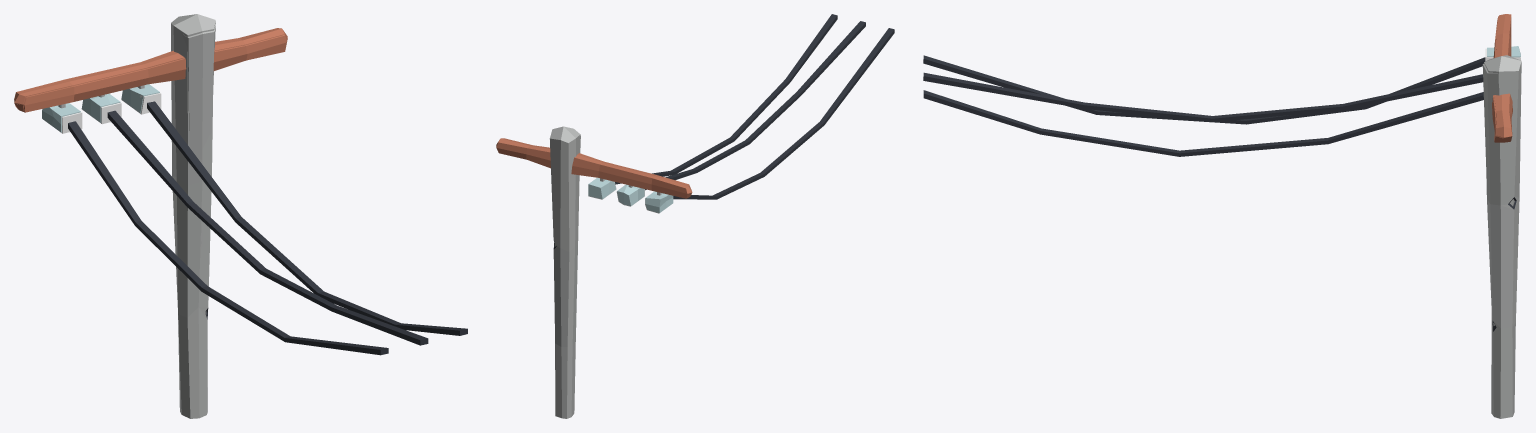
Rendered from Cenarios.fbx_Postes.fbx.
3 renders of one model, left to right at view 1: azimuth 30°, elevation 25°; view 2: azimuth 150°, elevation 25°; view 3: azimuth 270°, elevation 25°, orthographic. The views are drawn at different scales.
Visible parts, largest first — view 1: Poste Amassado, Poste Amassado Vazio; view 2: Poste Amassado; view 3: Poste Amassado, Poste Amassado Vazio.
Boxes of the visible parts, x1,y1,x2,y2 form: Poste Amassado: [14, 14, 467, 418]; Poste Amassado Vazio: [16, 22, 287, 314]; Poste Amassado: [496, 14, 894, 418]; Poste Amassado: [923, 14, 1521, 418]; Poste Amassado Vazio: [1482, 16, 1520, 325].
Bounding box in the file's own units: 503 × 702 × 1062.
